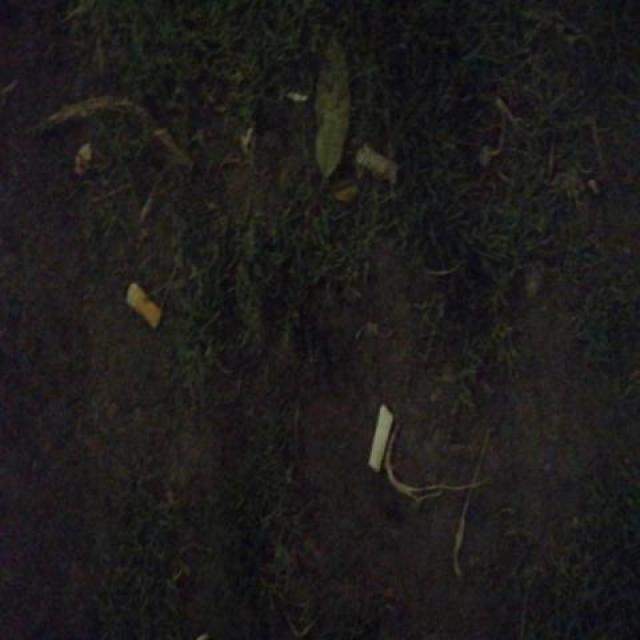non-organic waste: (350, 139, 406, 193), (122, 278, 166, 338), (366, 402, 398, 477)
